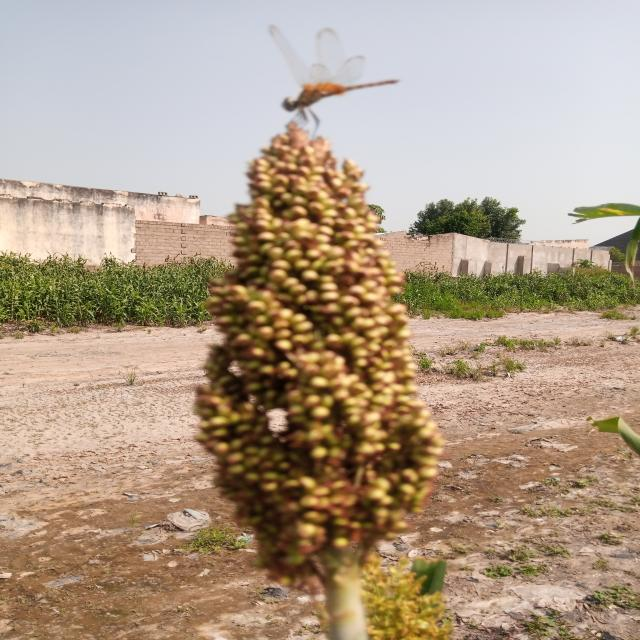UnripeSorghum: (209, 124, 461, 592)
